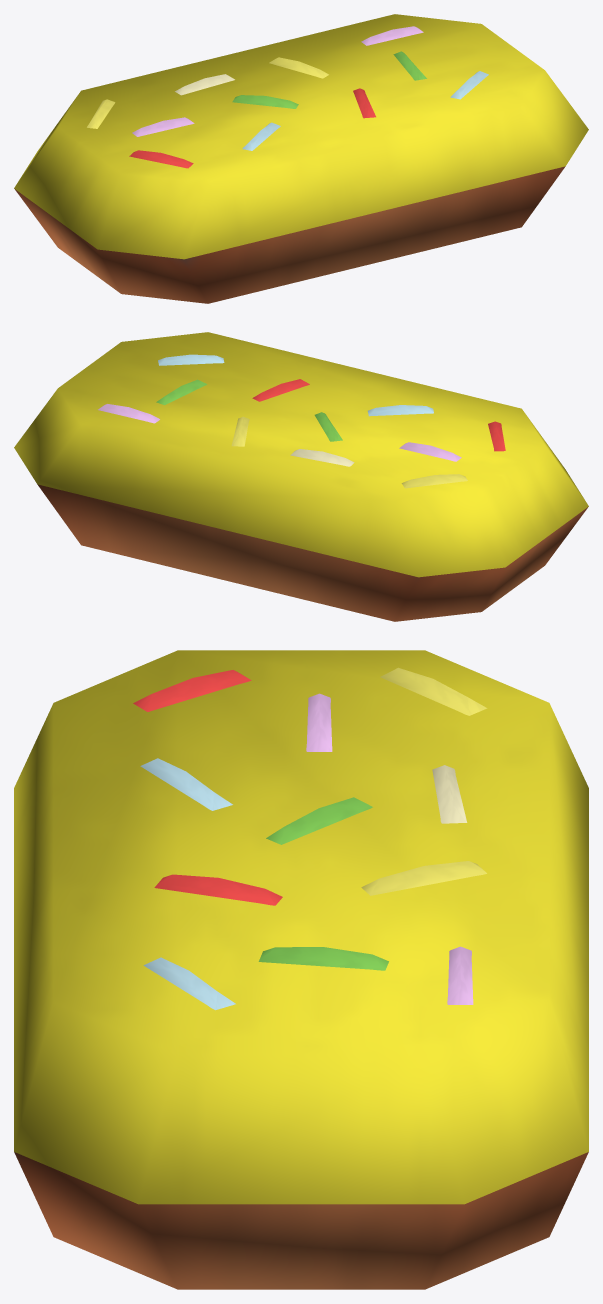
File: Doughnut_Bar_C.FBX
3 renders of one model, top to bottom at view 1: azimuth 30°, elevation 25°; view 2: azimuth 150°, elevation 25°; view 3: azimuth 270°, elevation 25°, orthographic. The views are drawn at different scales.
Parts seen in each view (by area): view 1: Doughnut_Bar; view 2: Doughnut_Bar; view 3: Doughnut_Bar.
Part boxes in pixels (x1=…): Doughnut_Bar: x1=14, y1=14, x2=588, y2=303; Doughnut_Bar: x1=14, y1=332, x2=588, y2=621; Doughnut_Bar: x1=14, y1=650, x2=588, y2=1289.
Bounding box in the file's own units: 75.48 × 18.74 × 39.15.
